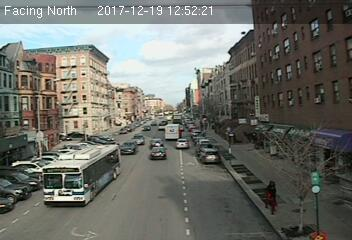bus: (41, 143, 122, 208)
car: (199, 148, 221, 163), (120, 140, 138, 154), (151, 146, 165, 159), (147, 138, 163, 147), (132, 135, 144, 144), (177, 139, 188, 148)
truck: (165, 123, 180, 141)
